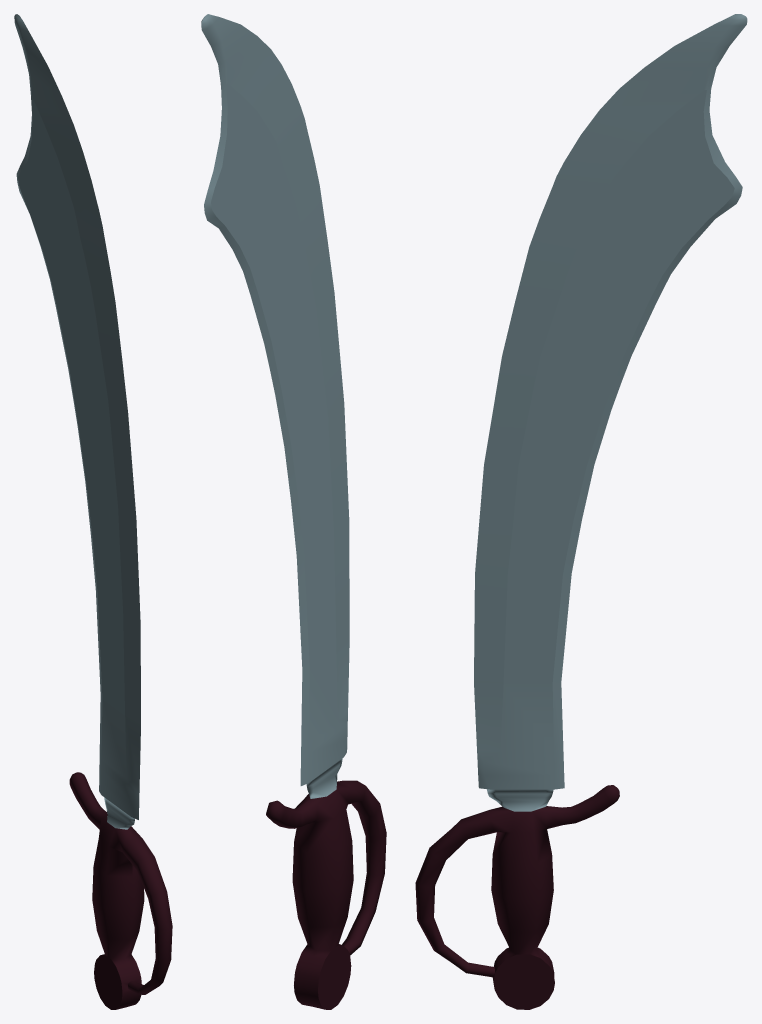
Rendered from SM_IronSword_001.fbx.
The picture shows the model from 3 angles, left to right: view 1: azimuth 30°, elevation 25°; view 2: azimuth 150°, elevation 25°; view 3: azimuth 270°, elevation 25°; orthographic projection. The views are drawn at different scales.
Visible parts, largest first — view 1: IronSword; view 2: IronSword; view 3: IronSword.
Part boxes in pixels (box(x1,y1,x2,y2)): IronSword: box(14, 14, 172, 1009); IronSword: box(201, 14, 386, 1009); IronSword: box(415, 14, 747, 1009).
Size of the model in its own units: 3.5 by 80 by 24.3.
